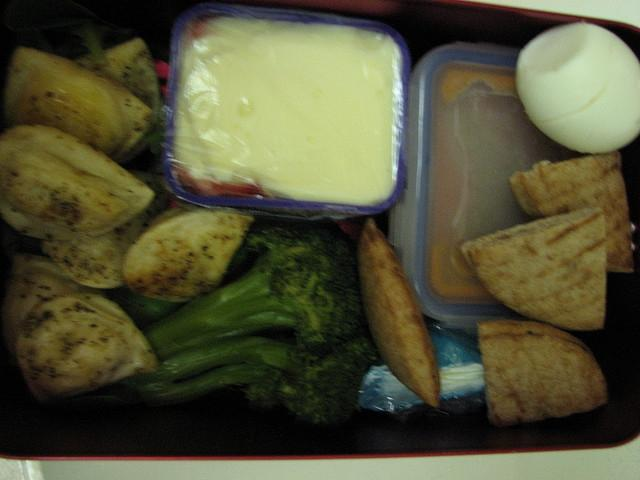broccoli: (142, 223, 367, 360), (118, 336, 384, 426)
